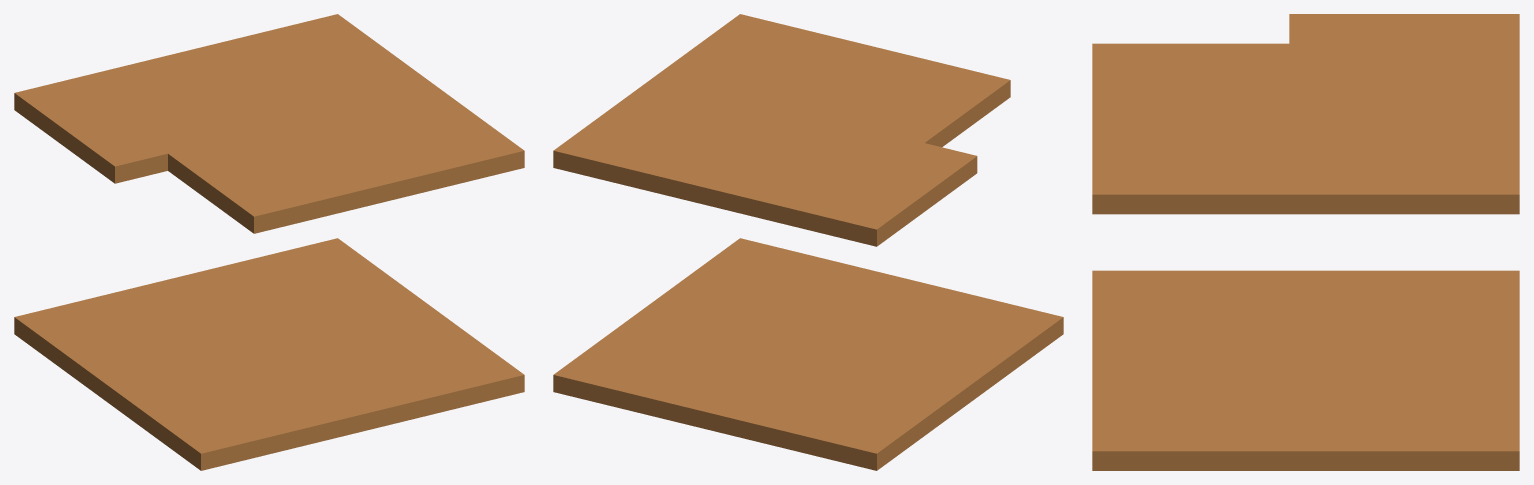
Rendered from BirdHouse_Floors.fbx.
3 renders of one model, left to right at view 1: azimuth 30°, elevation 25°; view 2: azimuth 150°, elevation 25°; view 3: azimuth 270°, elevation 25°, orthographic. The views are drawn at different scales.
Parts seen in each view (by area): view 1: Böden; view 2: Böden; view 3: Böden.
Part boxes in pixels (x1,y1,x2,y2): Böden: (14, 14, 524, 470); Böden: (553, 14, 1063, 470); Böden: (1092, 14, 1519, 470).
Size of the model in its own units: 600 by 428 by 600.
